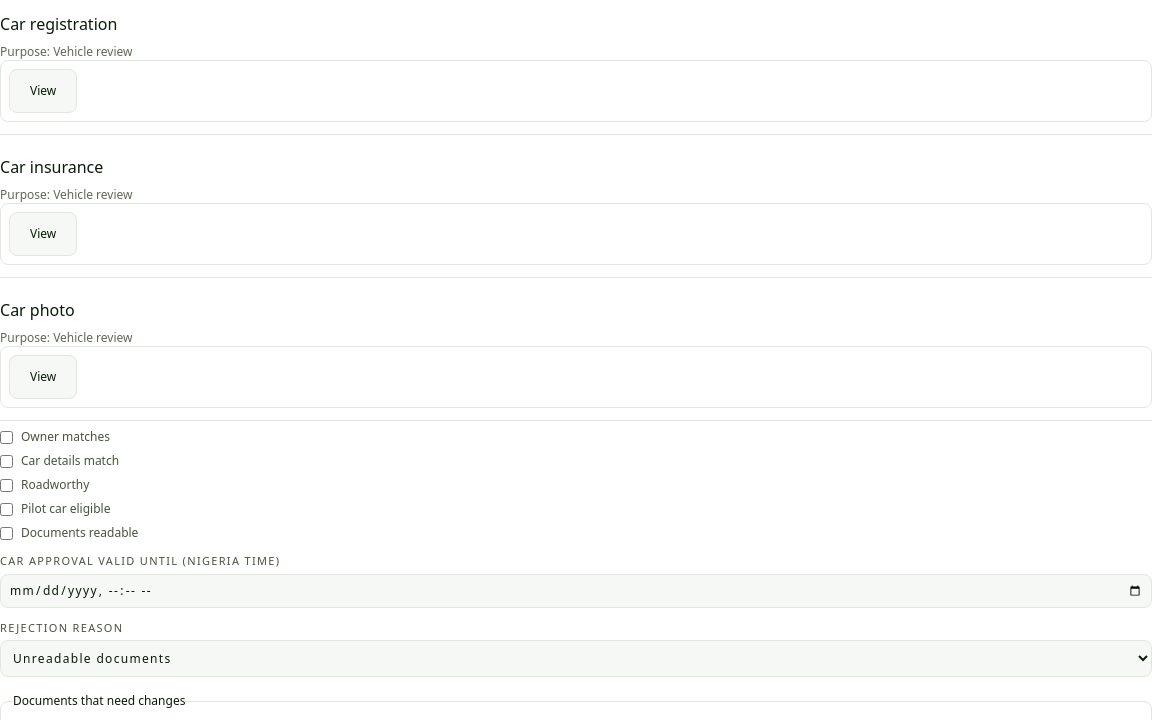
Test case: clears failed reads on hide and retries with a fresh audited read
What coordinates should you click on to do the following:
click the button "View" below "car registration"
I would click on:
 (43, 91)
Its box is 9,69 -> 77,113.
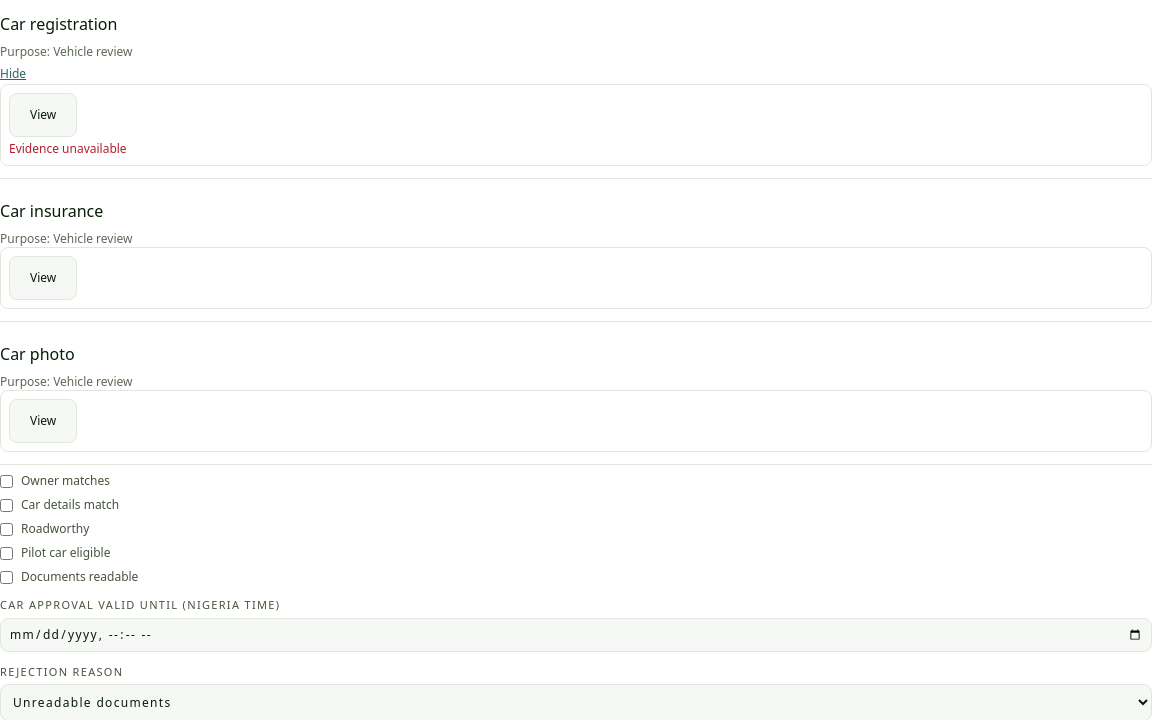
Expected: the text "Evidence unavailable" is shown, 9,140 -> 127,157
What coordinates should you click on to do the following:
click the button "Hide"
I would click on:
 (13, 74)
Its box is 0,66 -> 26,82.
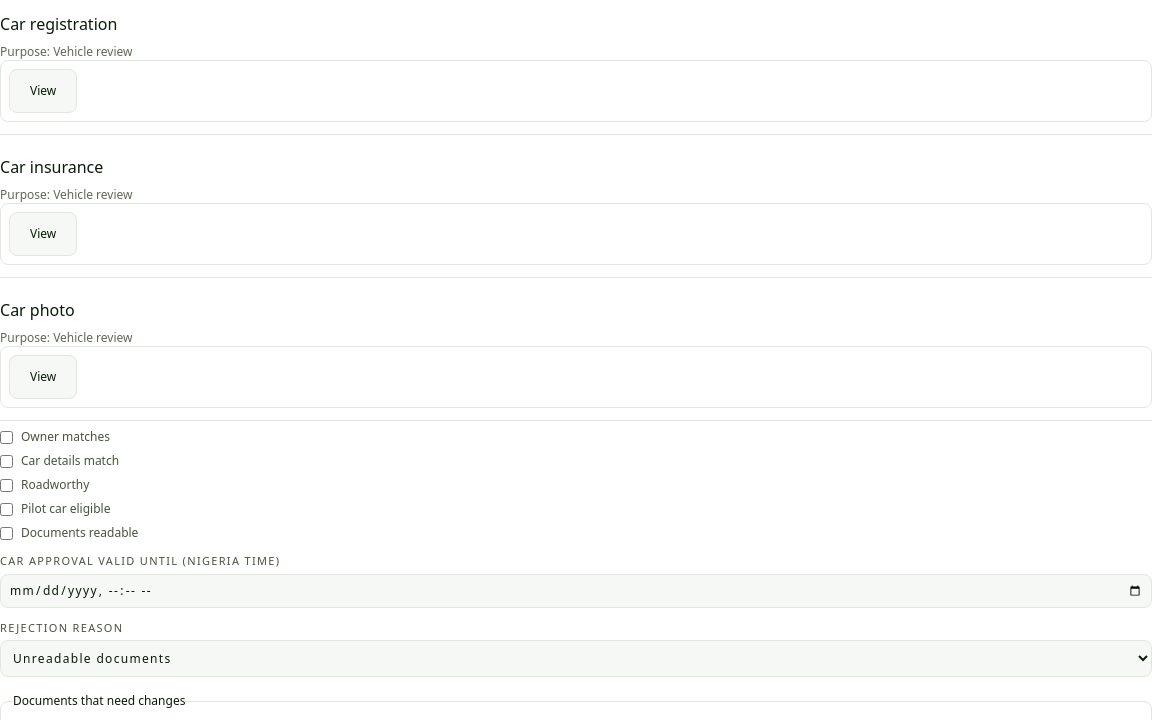
Expected: the text "Evidence unavailable" is gone
What coordinates should you click on to do the following:
click the button "View" below "car registration"
I would click on:
 (43, 91)
Its box is 9,69 -> 77,113.
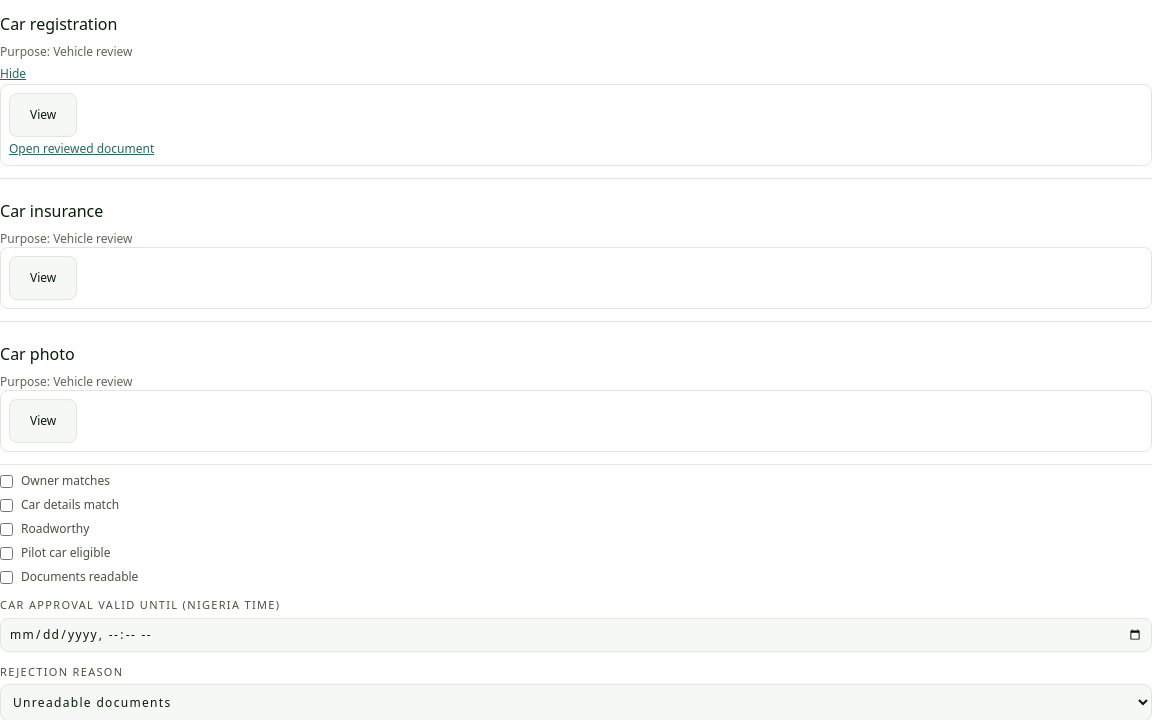
Expected: the link "Open reviewed document" is shown, 9,140 -> 154,157
